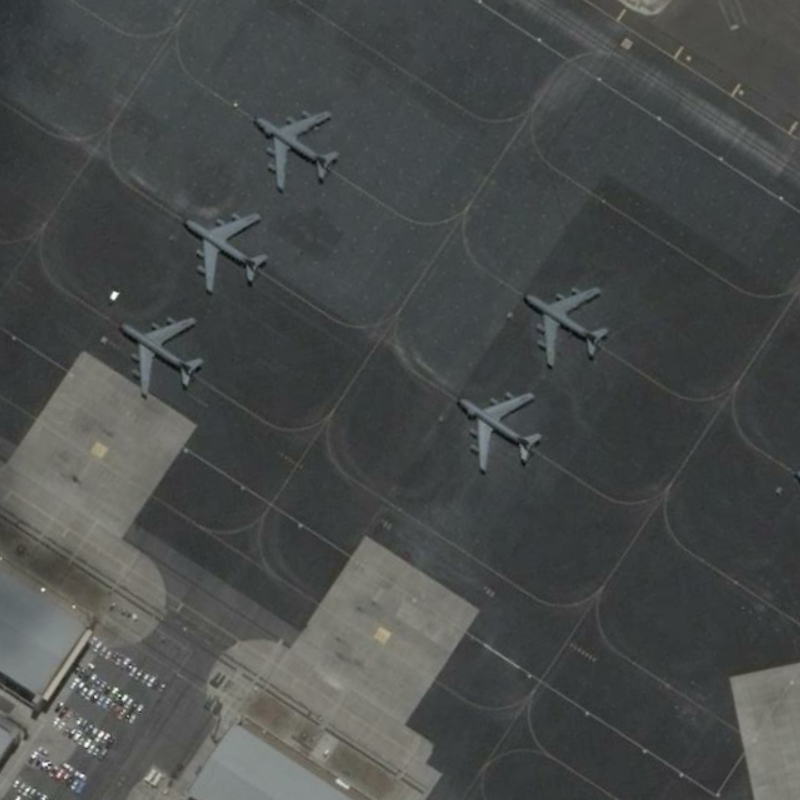A14: (249, 105, 344, 196), (115, 313, 210, 402), (455, 388, 547, 478), (182, 209, 274, 297), (521, 282, 611, 369)
